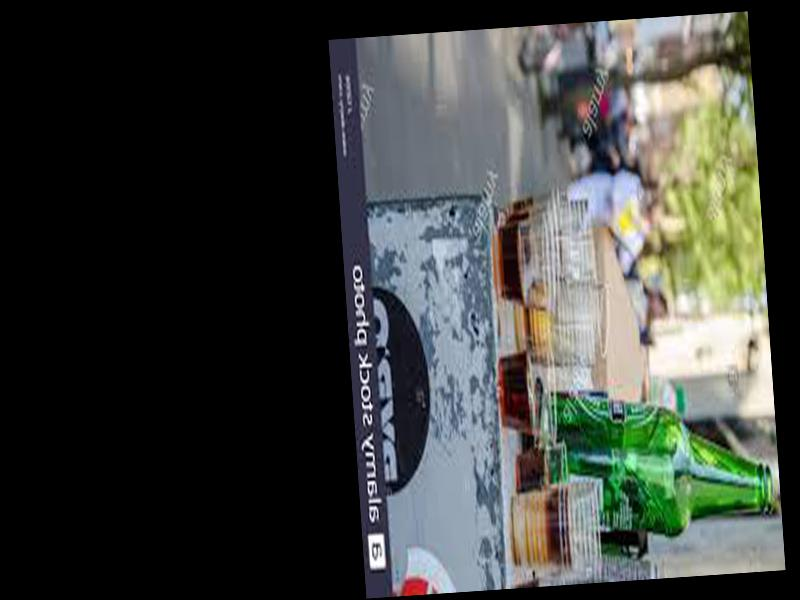Beer: (524, 374, 775, 548)
